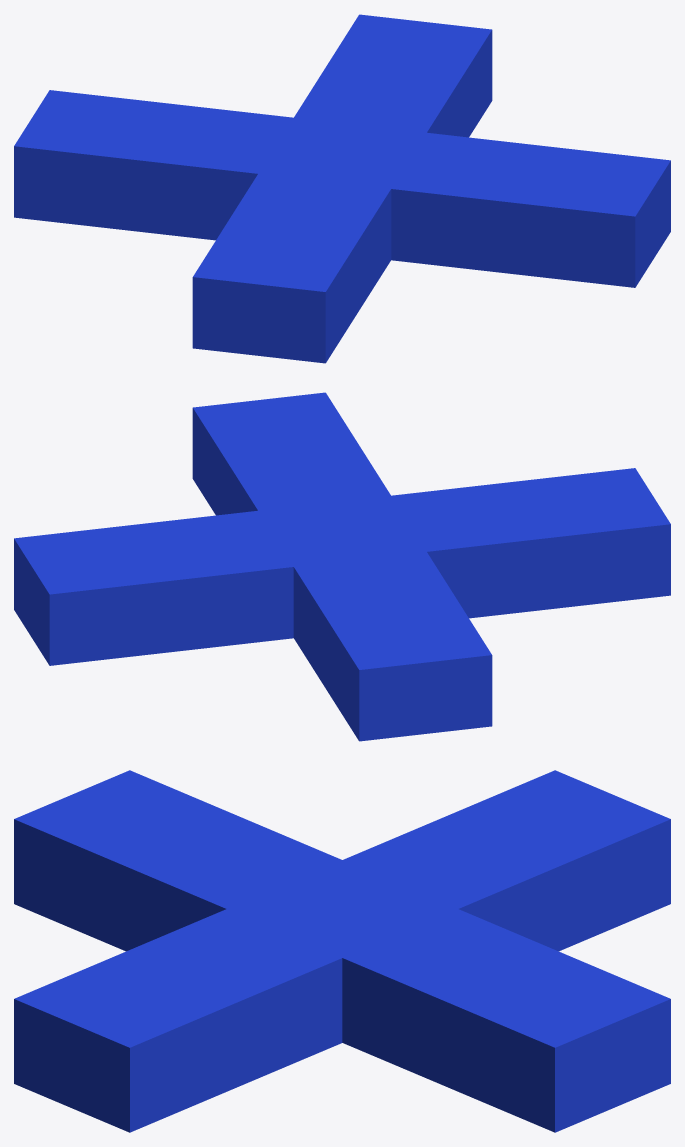
3 renders of one model, top to bottom at view 1: azimuth 30°, elevation 25°; view 2: azimuth 150°, elevation 25°; view 3: azimuth 270°, elevation 25°, orthographic. The views are drawn at different scales.
Visible parts, largest first — view 1: Cube; view 2: Cube; view 3: Cube.
Part boxes in pixels (x1,y1,x2,y2): Cube: (14,14,670,363); Cube: (14,392,670,741); Cube: (14,770,670,1132).
Size of the model in its own units: 63.94 by 9.12 by 63.94.
